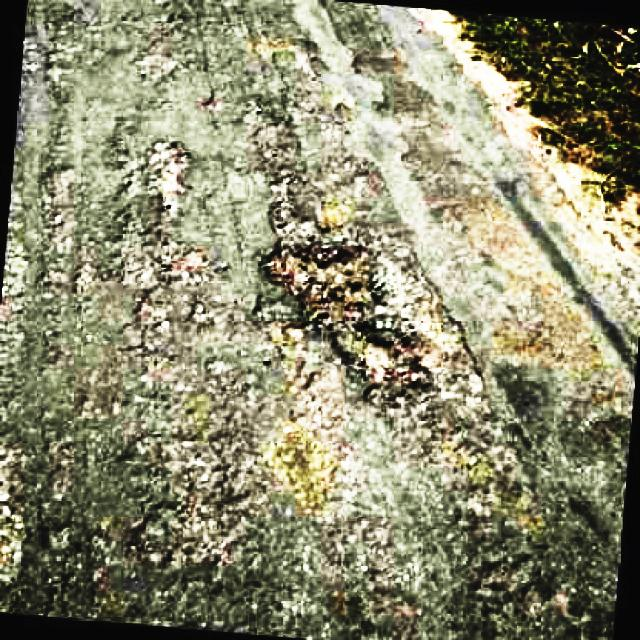pothole: (257, 203, 445, 419), (126, 435, 231, 571), (138, 134, 196, 220)
